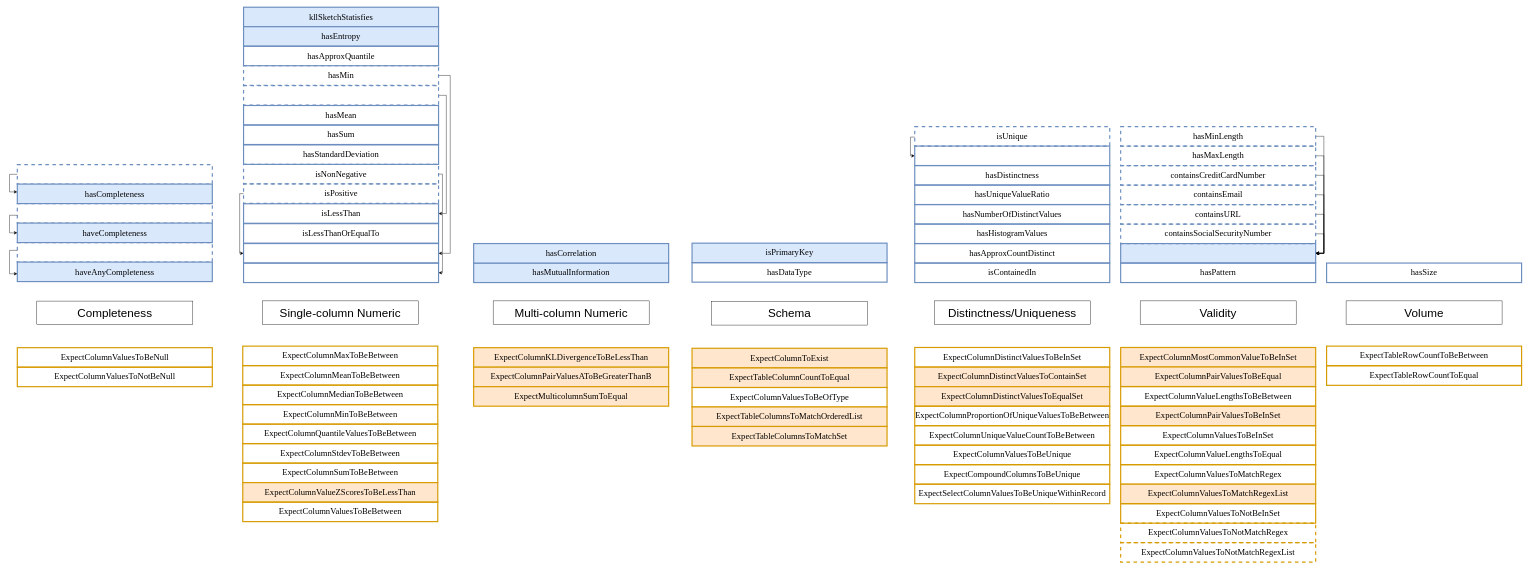
The diagram is 1529 pixels wide and 569 high, and some of its shapes have lost their labels. The shapes that lost their labels are listed below. From the top down, each one's centre as x and y in pixels, then its label:
At point (341, 95): "hasMax".
At point (115, 174): "isComplete".
At point (1012, 155): "hasUniqueness".
At point (115, 213): "areComplete".
At point (115, 252): "areAnyComplete".
At point (341, 253): "isGreaterThan".
At point (341, 272): "isGreaterThanOrEqualTo".
At point (1218, 253): "satisfies".
